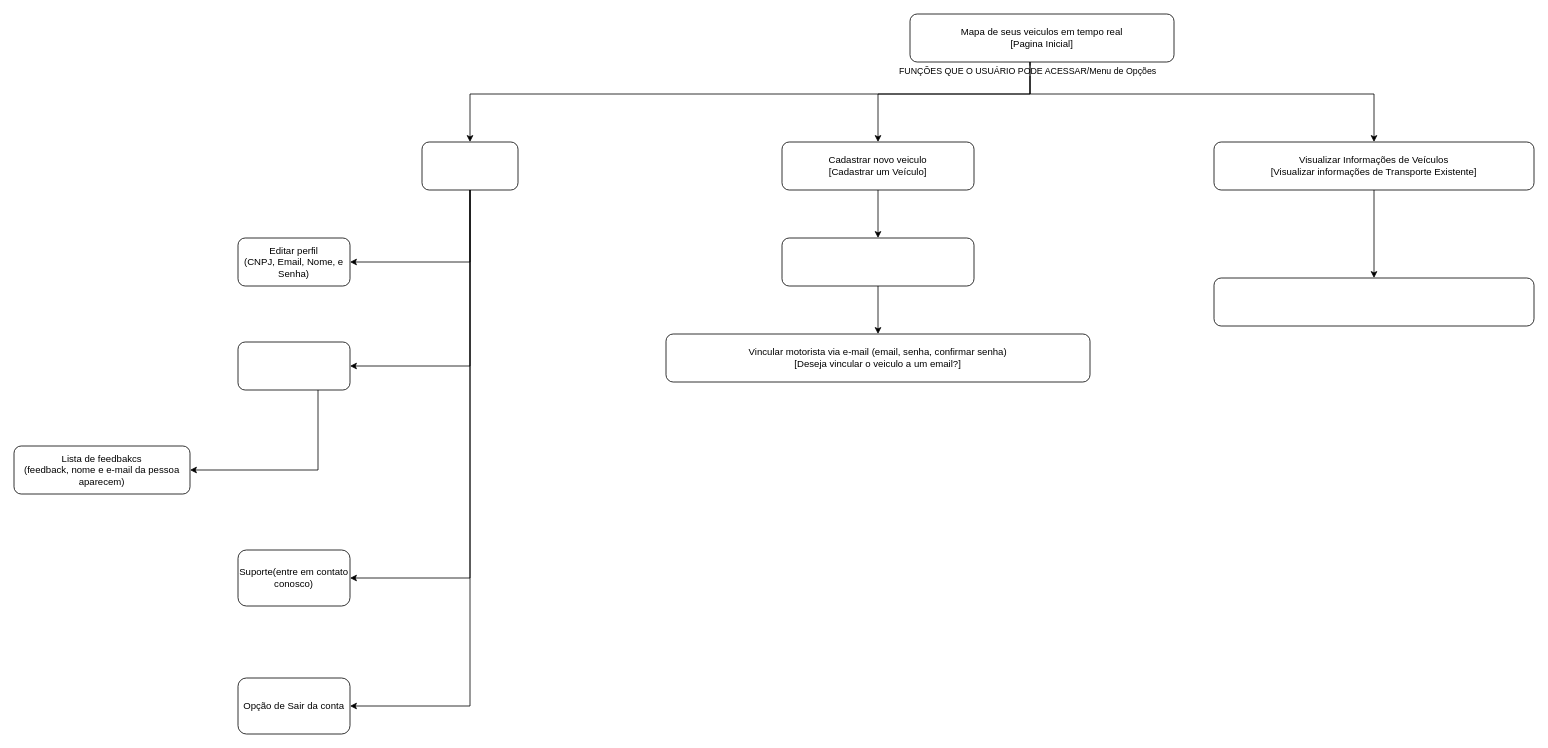
Image size: 1548x748. Some labels were removed from this diagram. The shapes that lost their labels are listed below. From the top down, each one's centre as x and y in pixels, then its label:
point 469,165: Configurações [Configurações]
point 877,261: Adicionar informações do veiculo [Cadastrar um Veículo]
point 1373,301: Editar Informações de Veículos [Editar informações de Transporte Existente]
point 293,365: Feedbacks recebidos
